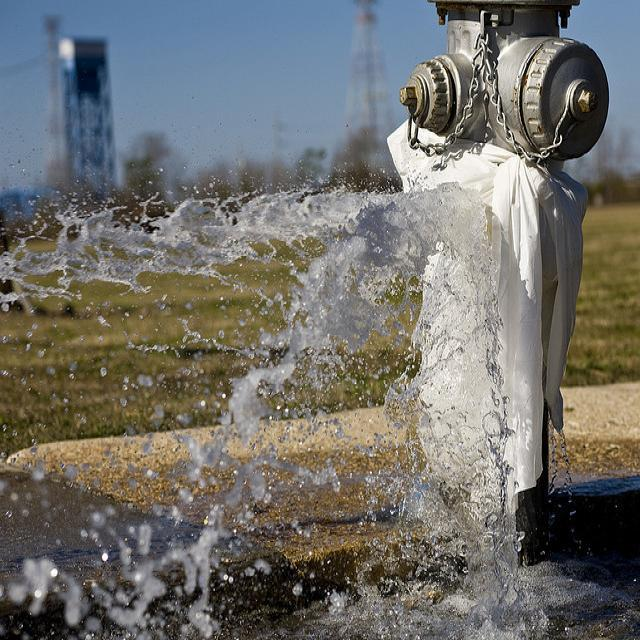fire_hydrant: (402, 1, 609, 173)
